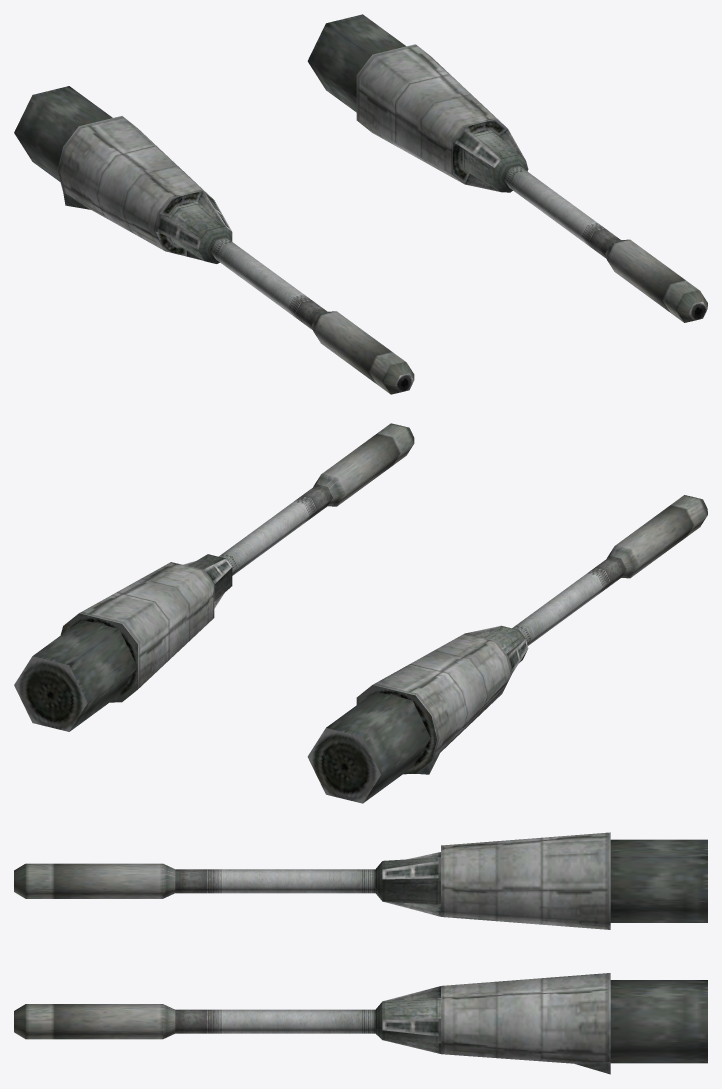
Rendered from bwing_weapon1_s05_l1.fbx.
The picture shows the model from 3 angles, top to bottom: view 1: azimuth 30°, elevation 25°; view 2: azimuth 150°, elevation 25°; view 3: azimuth 270°, elevation 25°; orthographic projection.
Visible parts, largest first — view 1: mesh_node; view 2: mesh_node; view 3: mesh_node.
Part boxes in pixels (x1,y1,x2,y2): mesh_node: (14, 14, 707, 394); mesh_node: (14, 423, 707, 803); mesh_node: (14, 832, 707, 1074).
Bounding box in the file's own units: 1.02 × 0.2168 × 1.65.
1 material, 1 textured.
